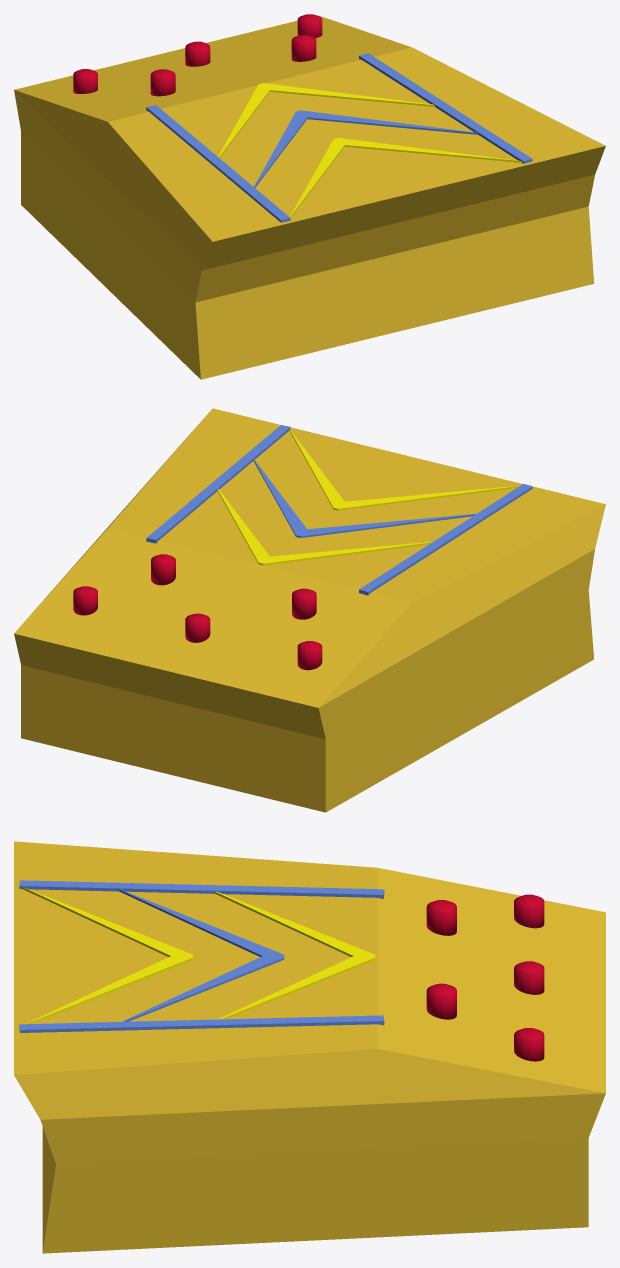
File: platform123fbx.fbx
3 views of the same model, one above another, from view 1: azimuth 30°, elevation 25°; view 2: azimuth 150°, elevation 25°; view 3: azimuth 270°, elevation 25° (orthographic). The views are drawn at different scales.
Visible parts, largest first — view 1: Cube, Cylinder.001, Cube.005, Cube.004, Cube.001, Cube.002, Cube.003; view 2: Cube, Cylinder.001, Cube.004, Cube.005, Cube.001, Cube.002, Cube.003; view 3: Cube, Cylinder.001, Cube.005, Cube.004, Cube.001, Cube.002, Cube.003.
Part boxes in pixels (x1,y1,x2,y2): Cube: (14,15,605,379); Cylinder.001: (73,14,322,96); Cube.005: (359,53,532,163); Cube.004: (146,105,290,222); Cube.001: (290,138,521,217); Cube.002: (254,110,478,187); Cube.003: (218,83,434,157); Cube: (14,408,605,812); Cylinder.001: (73,554,322,670); Cube.004: (359,484,532,595); Cube.005: (146,425,290,543); Cube.001: (289,429,519,510); Cube.002: (253,459,476,537); Cube.003: (217,489,432,565); Cube: (14,841,605,1253); Cylinder.001: (426,894,544,1061); Cube.005: (19,1015,384,1032); Cube.004: (19,880,384,898); Cube.001: (22,887,192,1024); Cube.002: (119,889,284,1021); Cube.003: (215,891,375,1019).
Size of the model in its own units: 11586 by 4433 by 12400.
